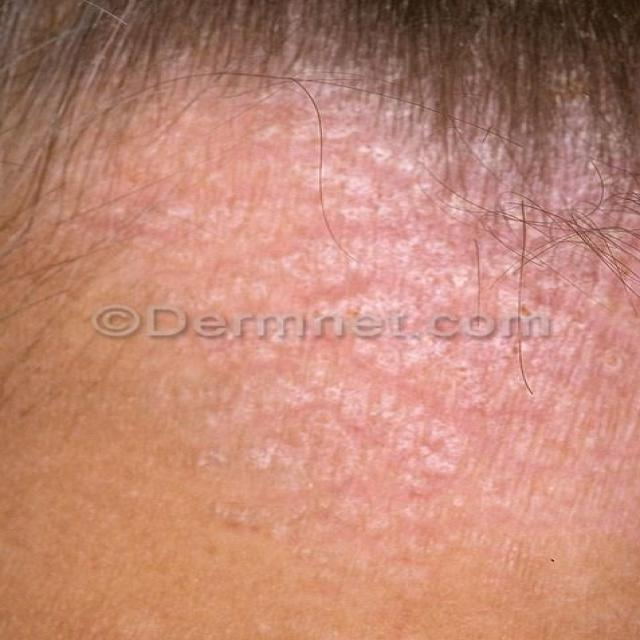Eczema: (79, 55, 632, 567)
